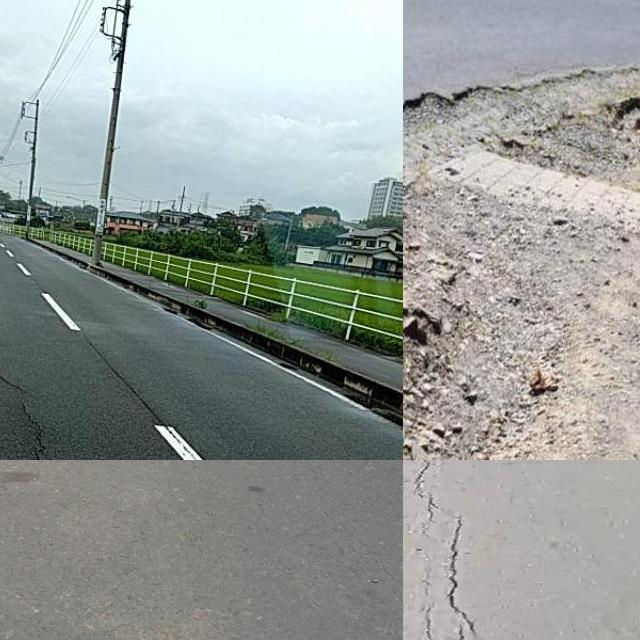Memanjang: (409, 460, 478, 640), (0, 356, 61, 460)
Pinggir: (403, 67, 640, 460)
